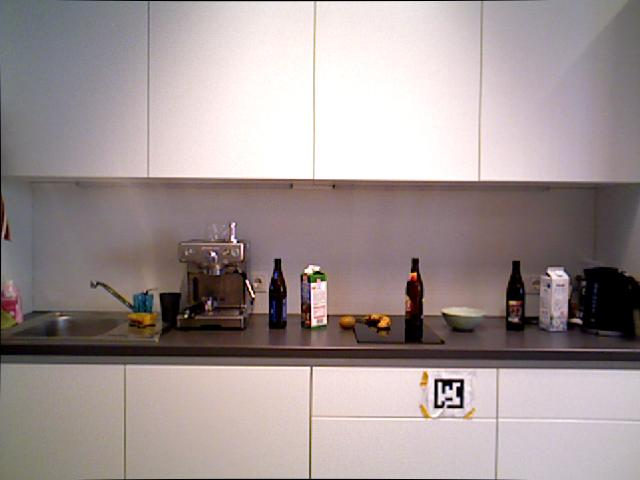bench: (298, 263, 330, 331), (538, 265, 570, 333), (404, 256, 423, 342), (505, 259, 525, 331), (268, 257, 287, 329), (0, 277, 27, 326)
bird: (440, 306, 486, 331)
couch: (6, 310, 132, 339)
handbag: (200, 221, 233, 245), (159, 292, 181, 324), (131, 291, 155, 320)
motorcycle: (357, 312, 393, 331)
